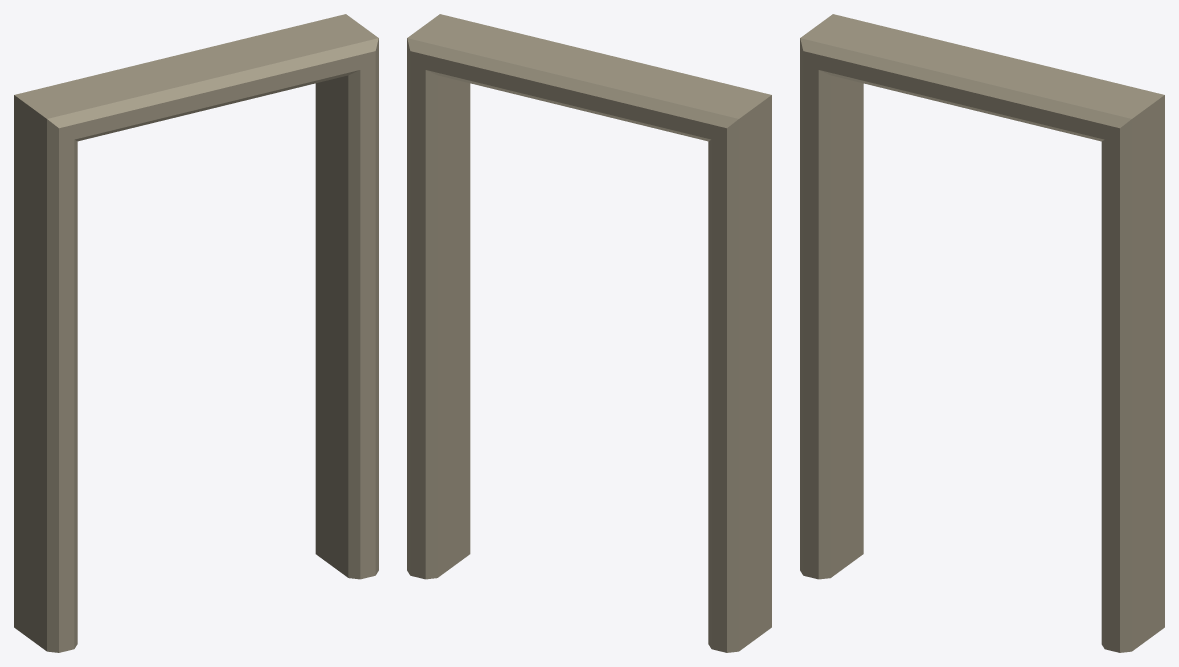
The model's file is Frame_Door_Floor.fbx.
3 renders of one model, left to right at view 1: azimuth 30°, elevation 25°; view 2: azimuth 150°, elevation 25°; view 3: azimuth 330°, elevation 25°, orthographic.
Parts seen in each view (by area): view 1: Frame_Door; view 2: Frame_Door; view 3: Frame_Door.
Boxes of the visible parts, x1=… form: Frame_Door: x1=14, y1=14, x2=378, y2=652; Frame_Door: x1=407, y1=14, x2=771, y2=652; Frame_Door: x1=800, y1=14, x2=1164, y2=652.
Bounding box in the file's own units: 194 × 297 × 42.11.
